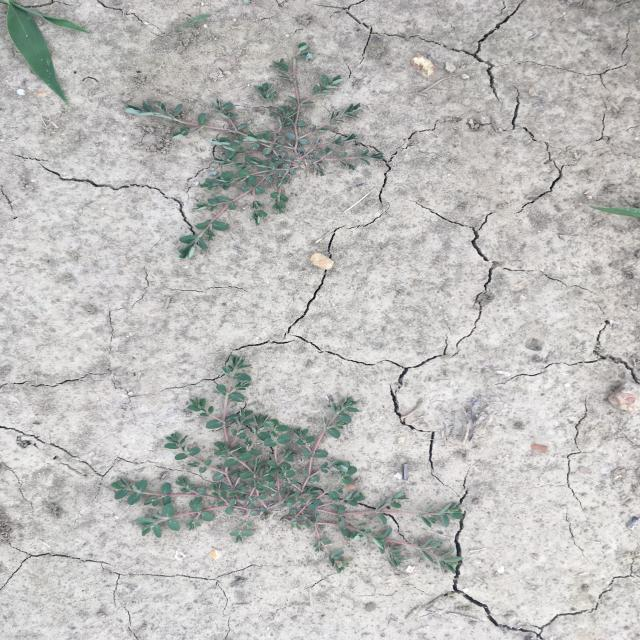SpottedSpurge: (109, 354, 468, 579), (124, 41, 389, 263)
